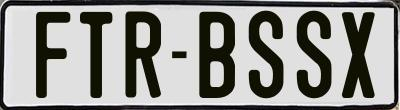B: (198, 10, 237, 96)
F: (33, 10, 70, 98)
R: (125, 11, 163, 101)
S: (295, 10, 333, 103), (247, 8, 281, 100)
T: (77, 10, 110, 98)
X: (339, 12, 372, 102)
